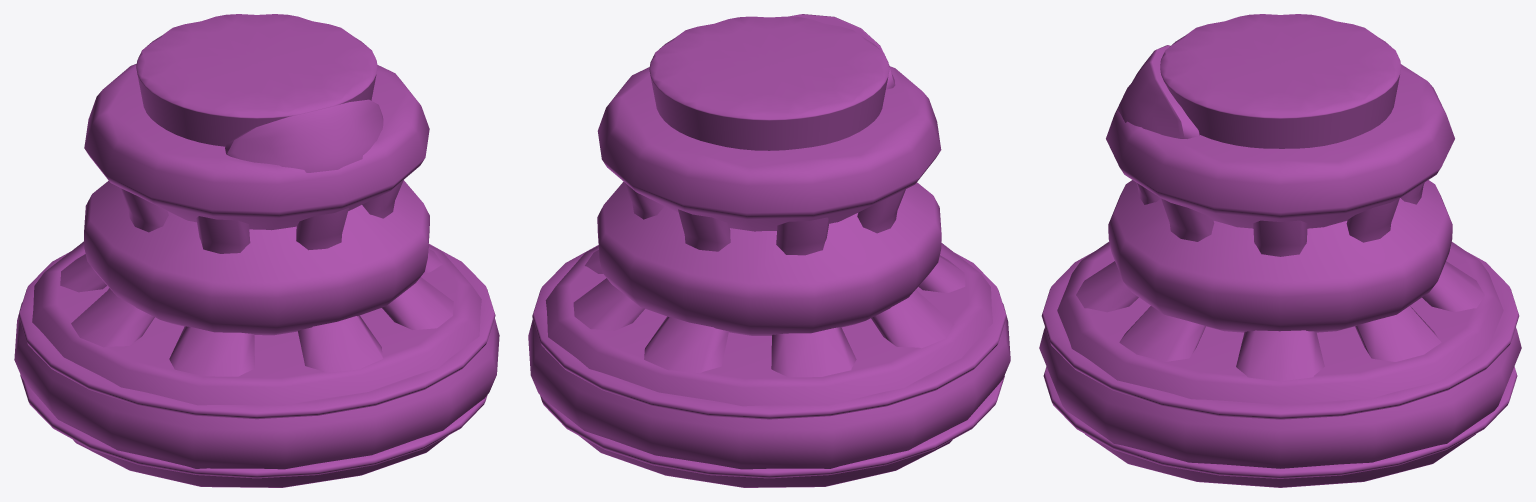
File: Appliances_CookingOrb_Base.fbx
3 renders of one model, left to right at view 1: azimuth 30°, elevation 25°; view 2: azimuth 150°, elevation 25°; view 3: azimuth 270°, elevation 25°, orthographic.
Parts seen in each view (by area): view 1: Base; view 2: Base; view 3: Base.
Boxes of the visible parts, x1,y1,x2,y2 form: Base: [14, 14, 499, 487]; Base: [528, 14, 1010, 487]; Base: [1039, 14, 1521, 487].
Size of the model in its own units: 92.93 by 72.83 by 92.93.
